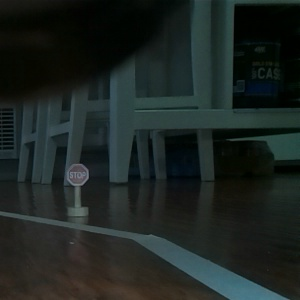stop sign: (64, 162, 91, 219)
